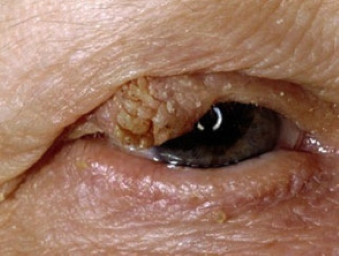seborrheic keratosis: (52, 42, 260, 148)
